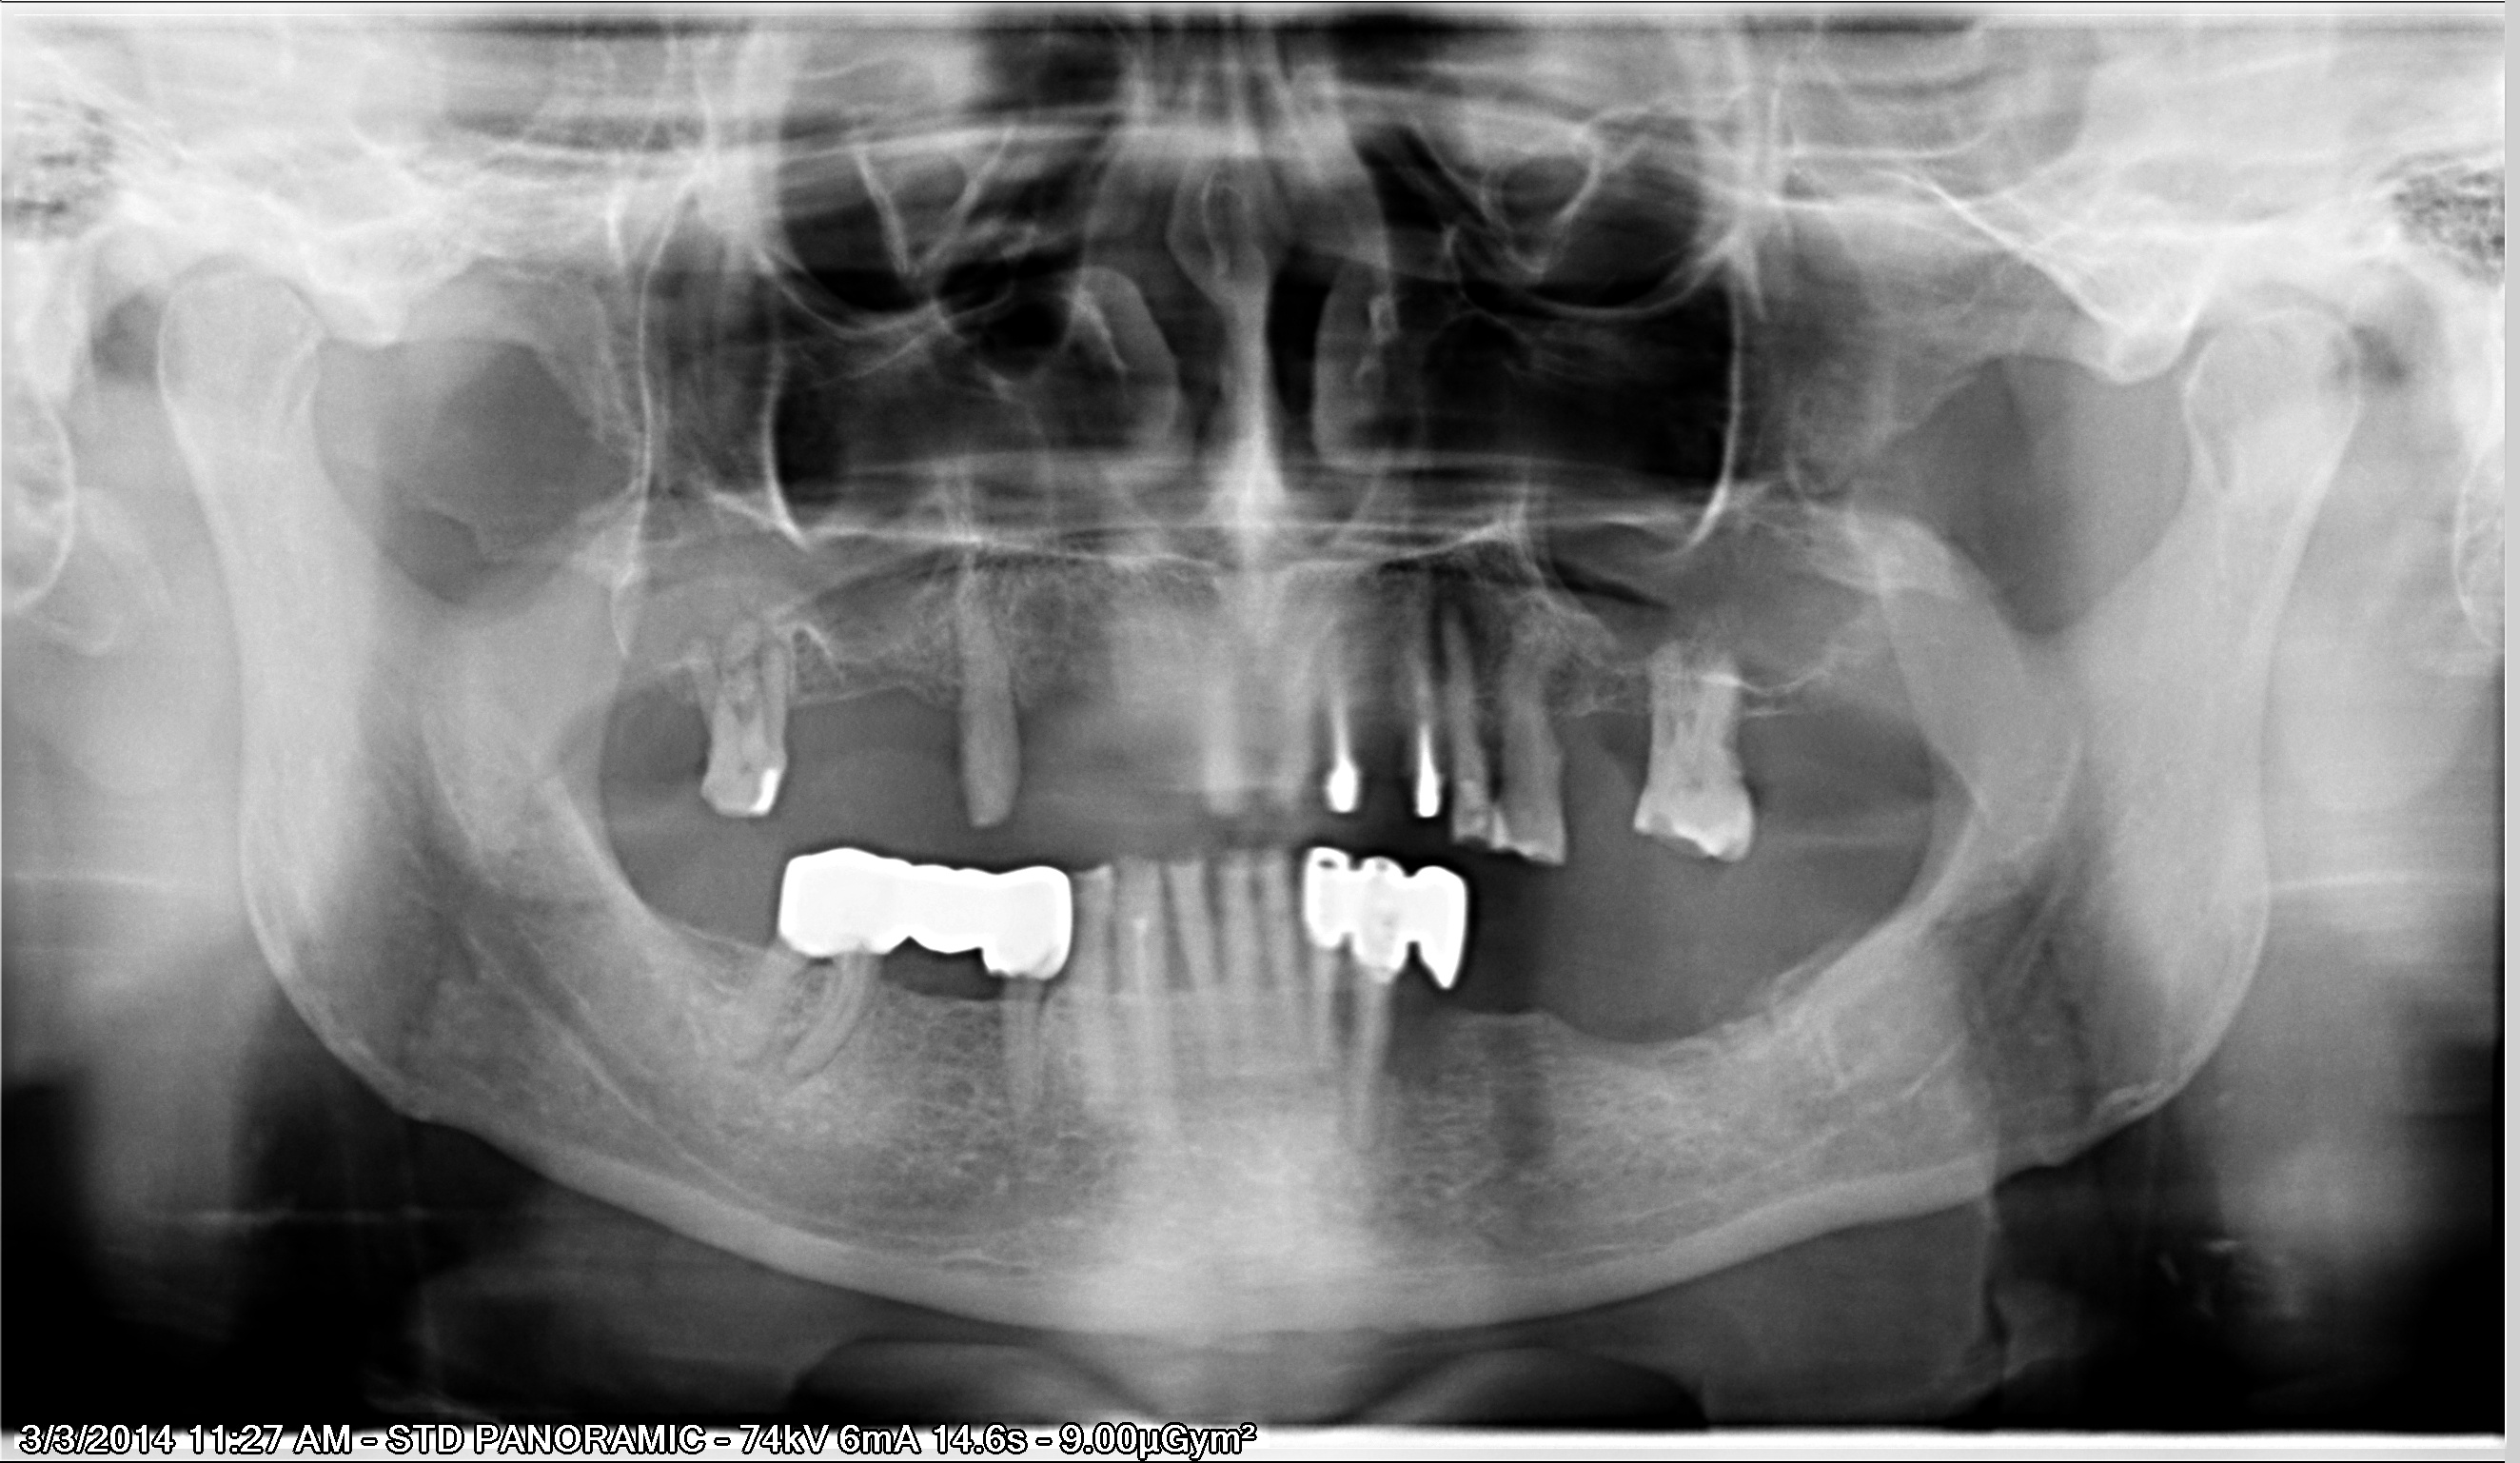API: (745, 1035, 853, 1111)
CAR: (1636, 803, 1725, 869)
END: (1110, 911, 1164, 1069)
FUR: (774, 946, 856, 1000)
OBT: (740, 756, 802, 827)
PRR: (761, 822, 1100, 977), (1281, 824, 1495, 1029)
